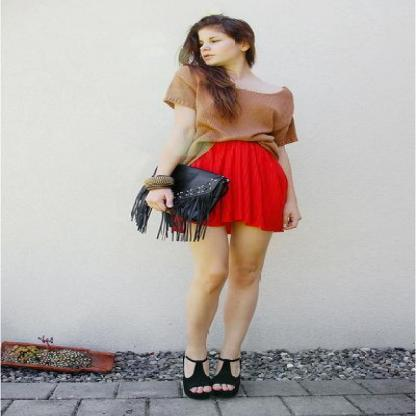bag: (130, 164, 229, 241)
shirt: (164, 66, 296, 152)
shoe: (181, 352, 247, 401)
skirt: (190, 140, 287, 232)
